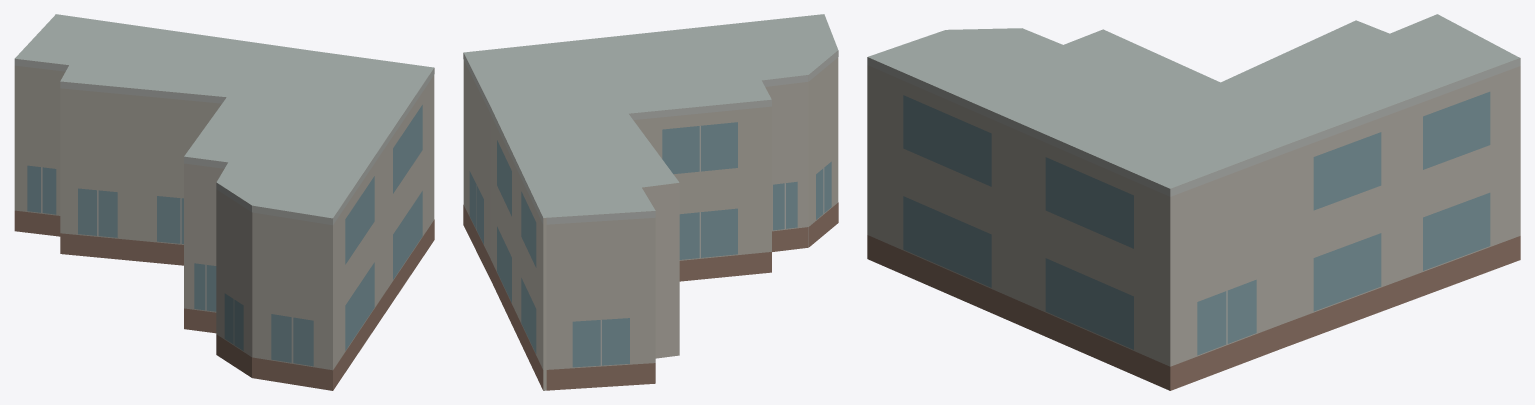
The model's file is survey-upis-32763285.glb.
3 views of the same model, side by side, from view 1: azimuth 30°, elevation 25°; view 2: azimuth 150°, elevation 25°; view 3: azimuth 270°, elevation 25° (orthographic). The views are drawn at different scales.
Visible parts, largest first — view 1: survey-upis-32763285.tmp; view 2: survey-upis-32763285.tmp; view 3: survey-upis-32763285.tmp.
Part boxes in pixels (<box>): survey-upis-32763285.tmp: <box>14,14,434,390</box>; survey-upis-32763285.tmp: <box>463,14,838,390</box>; survey-upis-32763285.tmp: <box>867,14,1520,390</box>.
Size of the model in its own units: 11.33 by 6.1 by 17.88.
